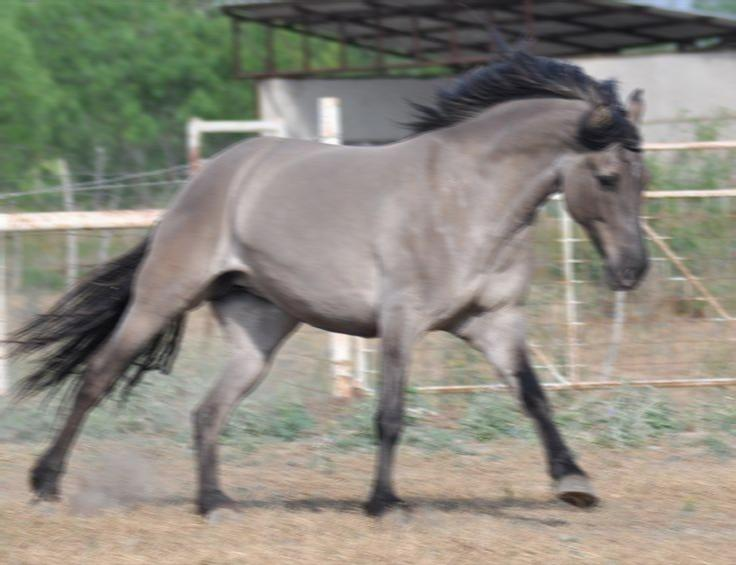horse: (0, 16, 652, 526)
